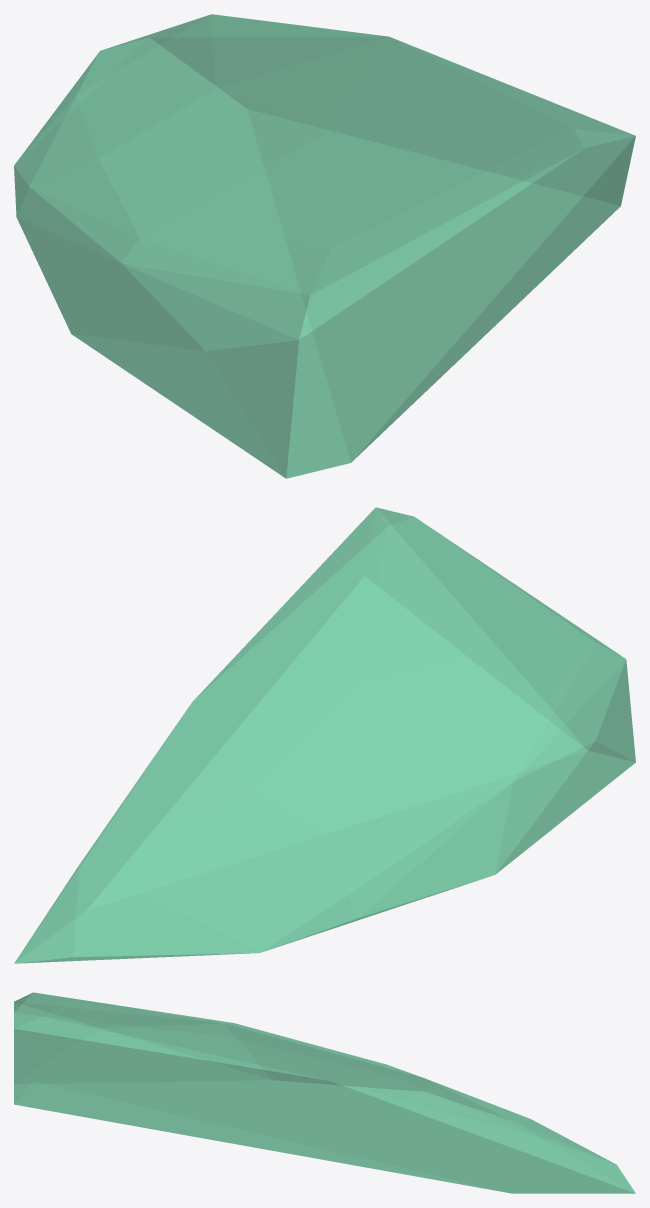
The picture shows the model from 3 angles, top to bottom: view 1: azimuth 30°, elevation 25°; view 2: azimuth 150°, elevation 25°; view 3: azimuth 270°, elevation 25°; orthographic projection. The views are drawn at different scales.
Parts seen in each view (by area): view 1: Shape_IndexedFaceSet.032_Shape_IndexedFaceSet.630; view 2: Shape_IndexedFaceSet.032_Shape_IndexedFaceSet.630; view 3: Shape_IndexedFaceSet.032_Shape_IndexedFaceSet.630.
Boxes of the visible parts, x1,y1,x2,y2 form: Shape_IndexedFaceSet.032_Shape_IndexedFaceSet.630: (14, 14, 635, 478); Shape_IndexedFaceSet.032_Shape_IndexedFaceSet.630: (14, 507, 635, 963); Shape_IndexedFaceSet.032_Shape_IndexedFaceSet.630: (14, 992, 635, 1193).
Bounding box in the file's own units: 0.0522 × 0.0354 × 0.1211.
